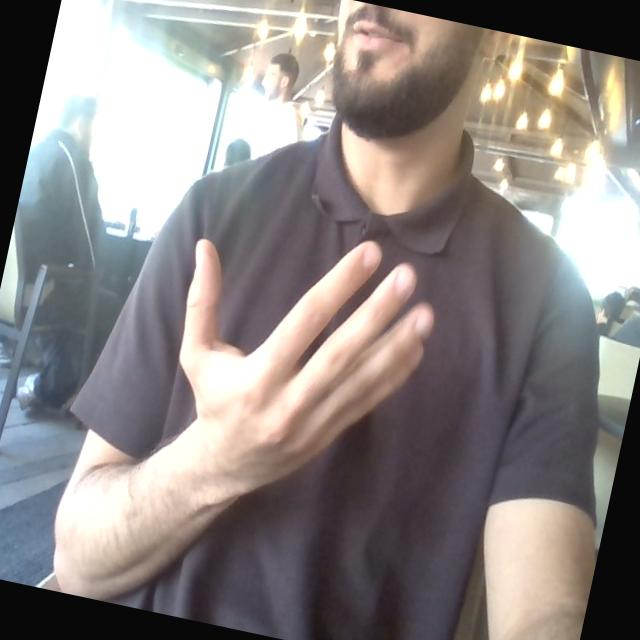Hand: (180, 240, 432, 493)
